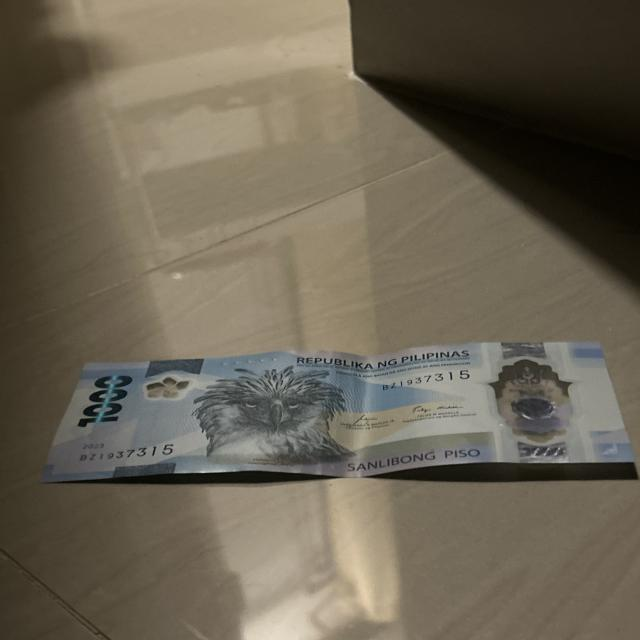clear_window: (490, 355, 583, 450)
eagle: (195, 368, 348, 462)
sampaguita: (140, 372, 188, 404)
serial_number: (374, 369, 490, 391), (80, 444, 177, 464)
